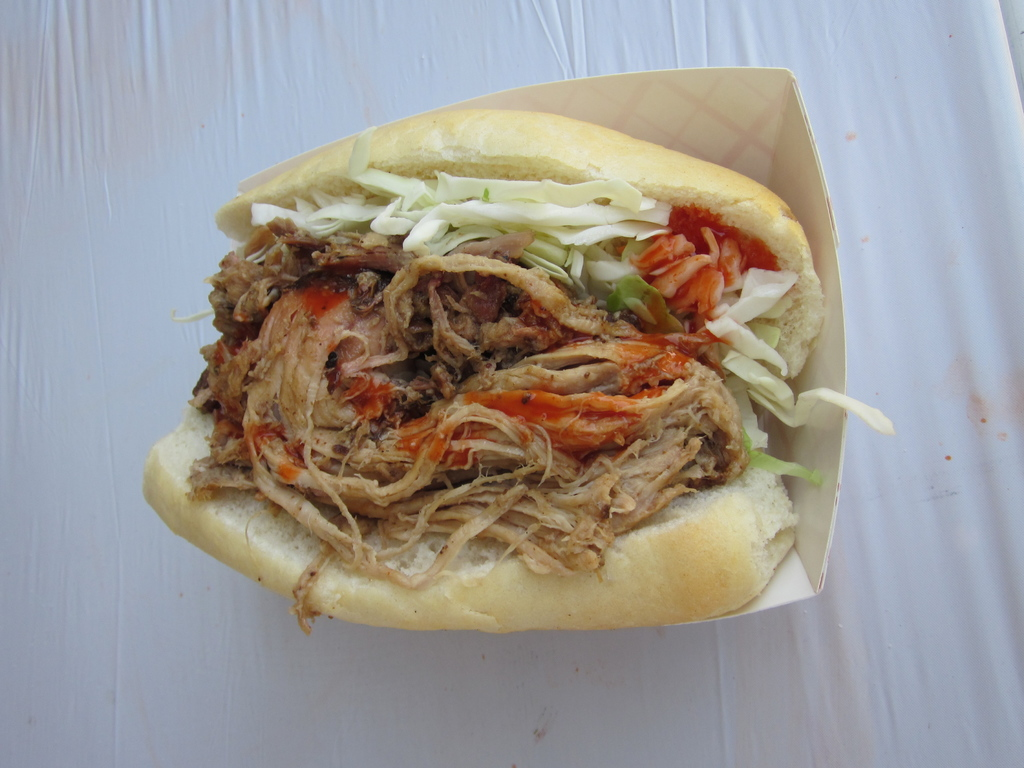sandwich: (139, 108, 893, 627)
